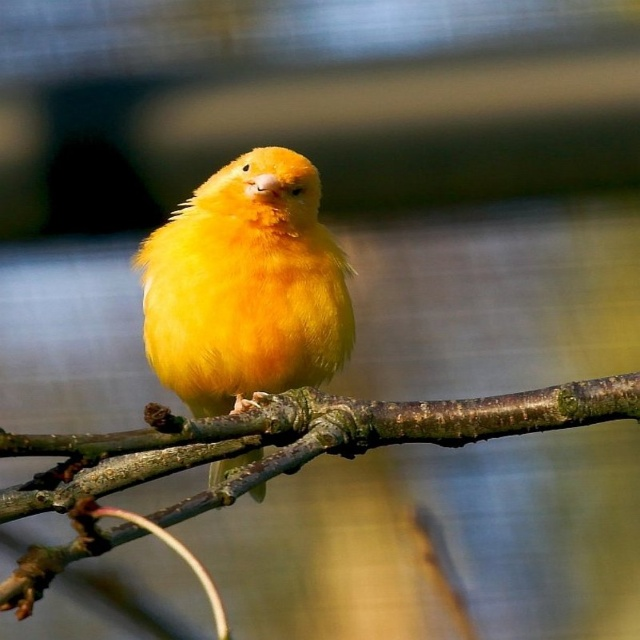Canary: (129, 147, 359, 510)
